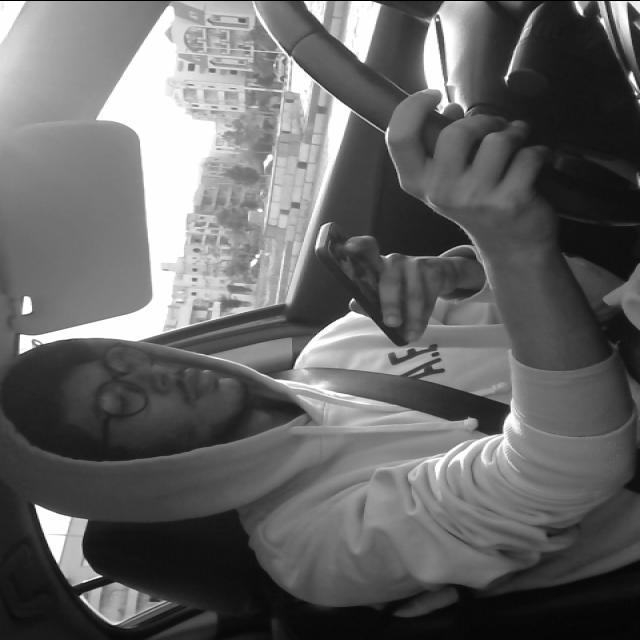mobile use: (316, 221, 415, 345)
